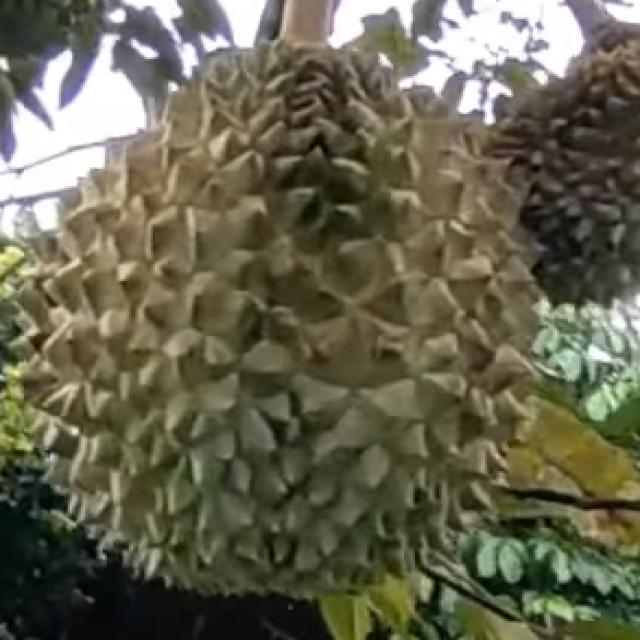immature: (22, 35, 536, 592)
